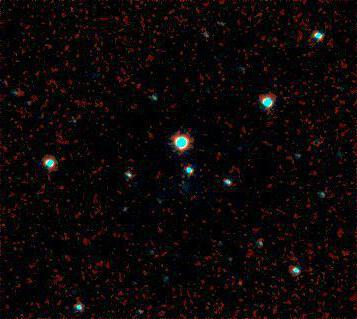star: (230, 265, 260, 295)
